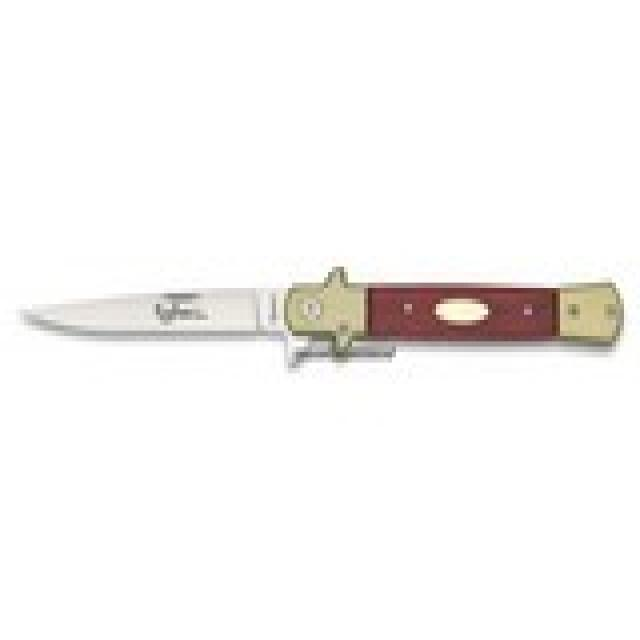Knife: (13, 259, 638, 373)
